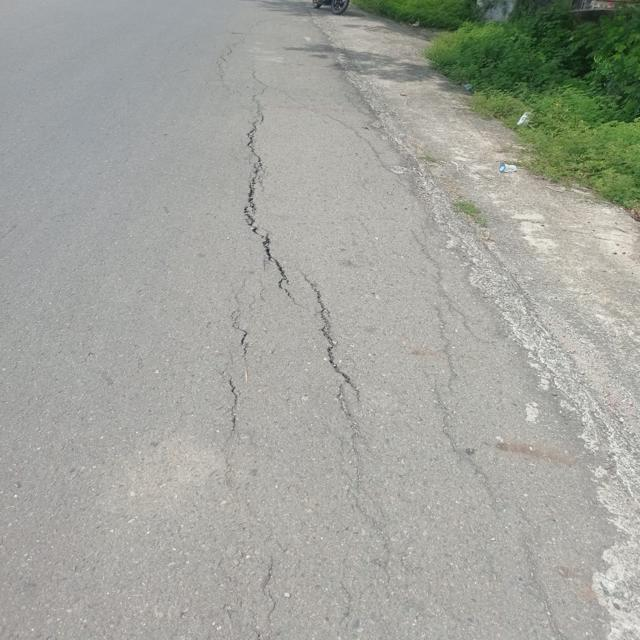Memanjang: (232, 79, 300, 306), (299, 279, 366, 408)
